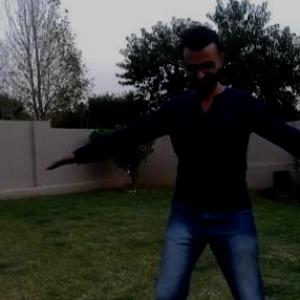land: (94, 48, 300, 299)
